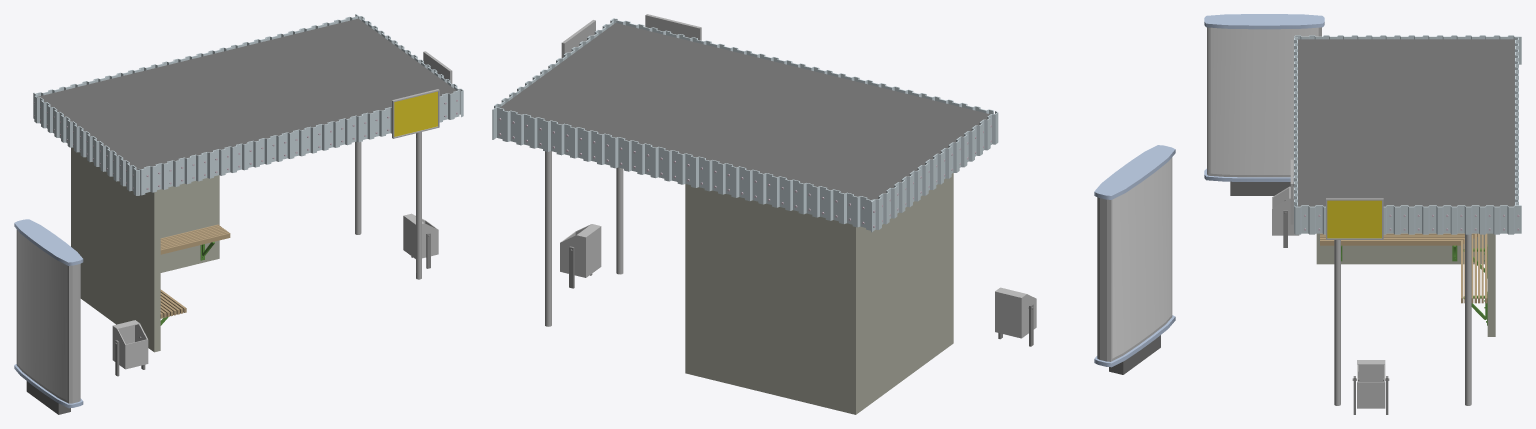
Rendered from Bus_Stop.fbx.
3 renders of one model, left to right at view 1: azimuth 30°, elevation 25°; view 2: azimuth 150°, elevation 25°; view 3: azimuth 270°, elevation 25°, orthographic. The views are drawn at different scales.
Visible parts, largest first — view 1: Куб, Плоскость.001, Куб.005, Цилиндр.001, Куб.004, Куб.001; view 2: Куб, Плоскость.001, Куб.005, Цилиндр.001, Куб.004, Куб.001; view 3: Куб, Куб.005, Плоскость.001, Цилиндр.001, Куб.001, Куб.004.
Boxes of the visible parts, x1=… form: Куб: x1=37, y1=18, x2=456, y2=352; Плоскость.001: x1=33, y1=14, x2=463, y2=195; Куб.005: x1=14, y1=219, x2=83, y2=414; Цилиндр.001: x1=355, y1=132, x2=421, y2=279; Куб.004: x1=112, y1=320, x2=148, y2=369; Куб.001: x1=403, y1=213, x2=438, y2=258; Куб: x1=500, y1=23, x2=989, y2=414; Плоскость.001: x1=492, y1=14, x2=998, y2=232; Куб.005: x1=1094, y1=145, x2=1175, y2=374; Цилиндр.001: x1=545, y1=151, x2=623, y2=326; Куб.004: x1=995, y1=287, x2=1036, y2=338; Куб.001: x1=560, y1=224, x2=601, y2=277; Куб: x1=1298, y1=39, x2=1514, y2=336; Куб.005: x1=1204, y1=14, x2=1324, y2=195; Плоскость.001: x1=1290, y1=35, x2=1521, y2=239; Цилиндр.001: x1=1334, y1=234, x2=1471, y2=405; Куб.001: x1=1357, y1=360, x2=1385, y2=408; Куб.004: x1=1272, y1=186, x2=1299, y2=235.
Bounding box in the file's own units: 801 × 353 × 461.
